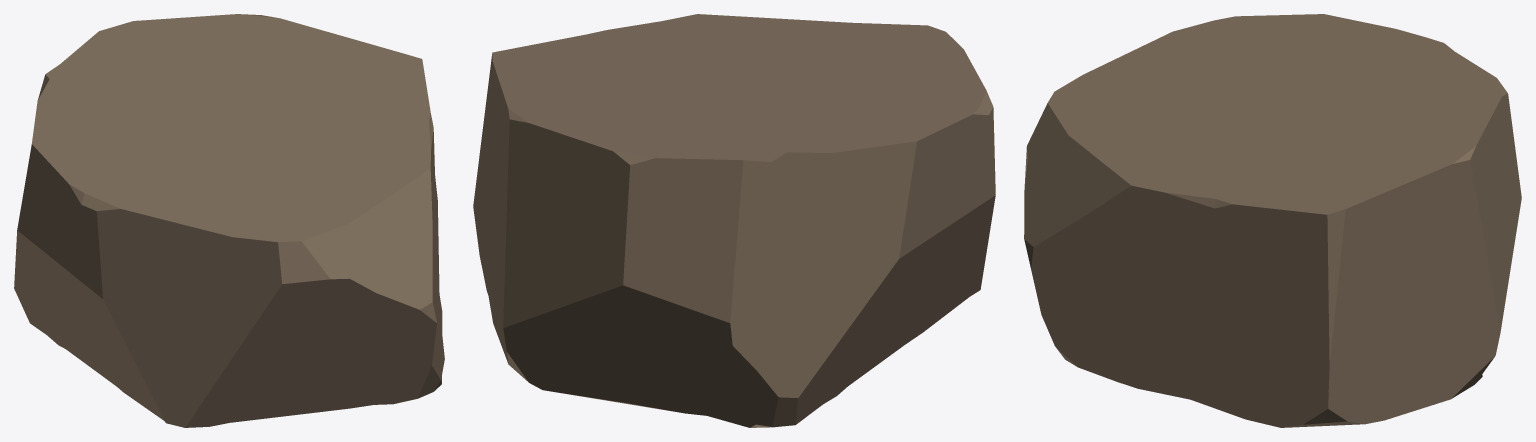
Rendered from rock_9.fbx.
3 views of the same model, side by side, from view 1: azimuth 30°, elevation 25°; view 2: azimuth 150°, elevation 25°; view 3: azimuth 270°, elevation 25° (orthographic). The views are drawn at different scales.
Visible parts, largest first — view 1: rock_9; view 2: rock_9; view 3: rock_9.
Boxes of the visible parts, x1=… form: rock_9: x1=14, y1=14, x2=444, y2=427; rock_9: x1=473, y1=14, x2=995, y2=427; rock_9: x1=1024, y1=14, x2=1521, y2=427.
Size of the model in its own units: 1.79 by 1.02 by 1.87.
